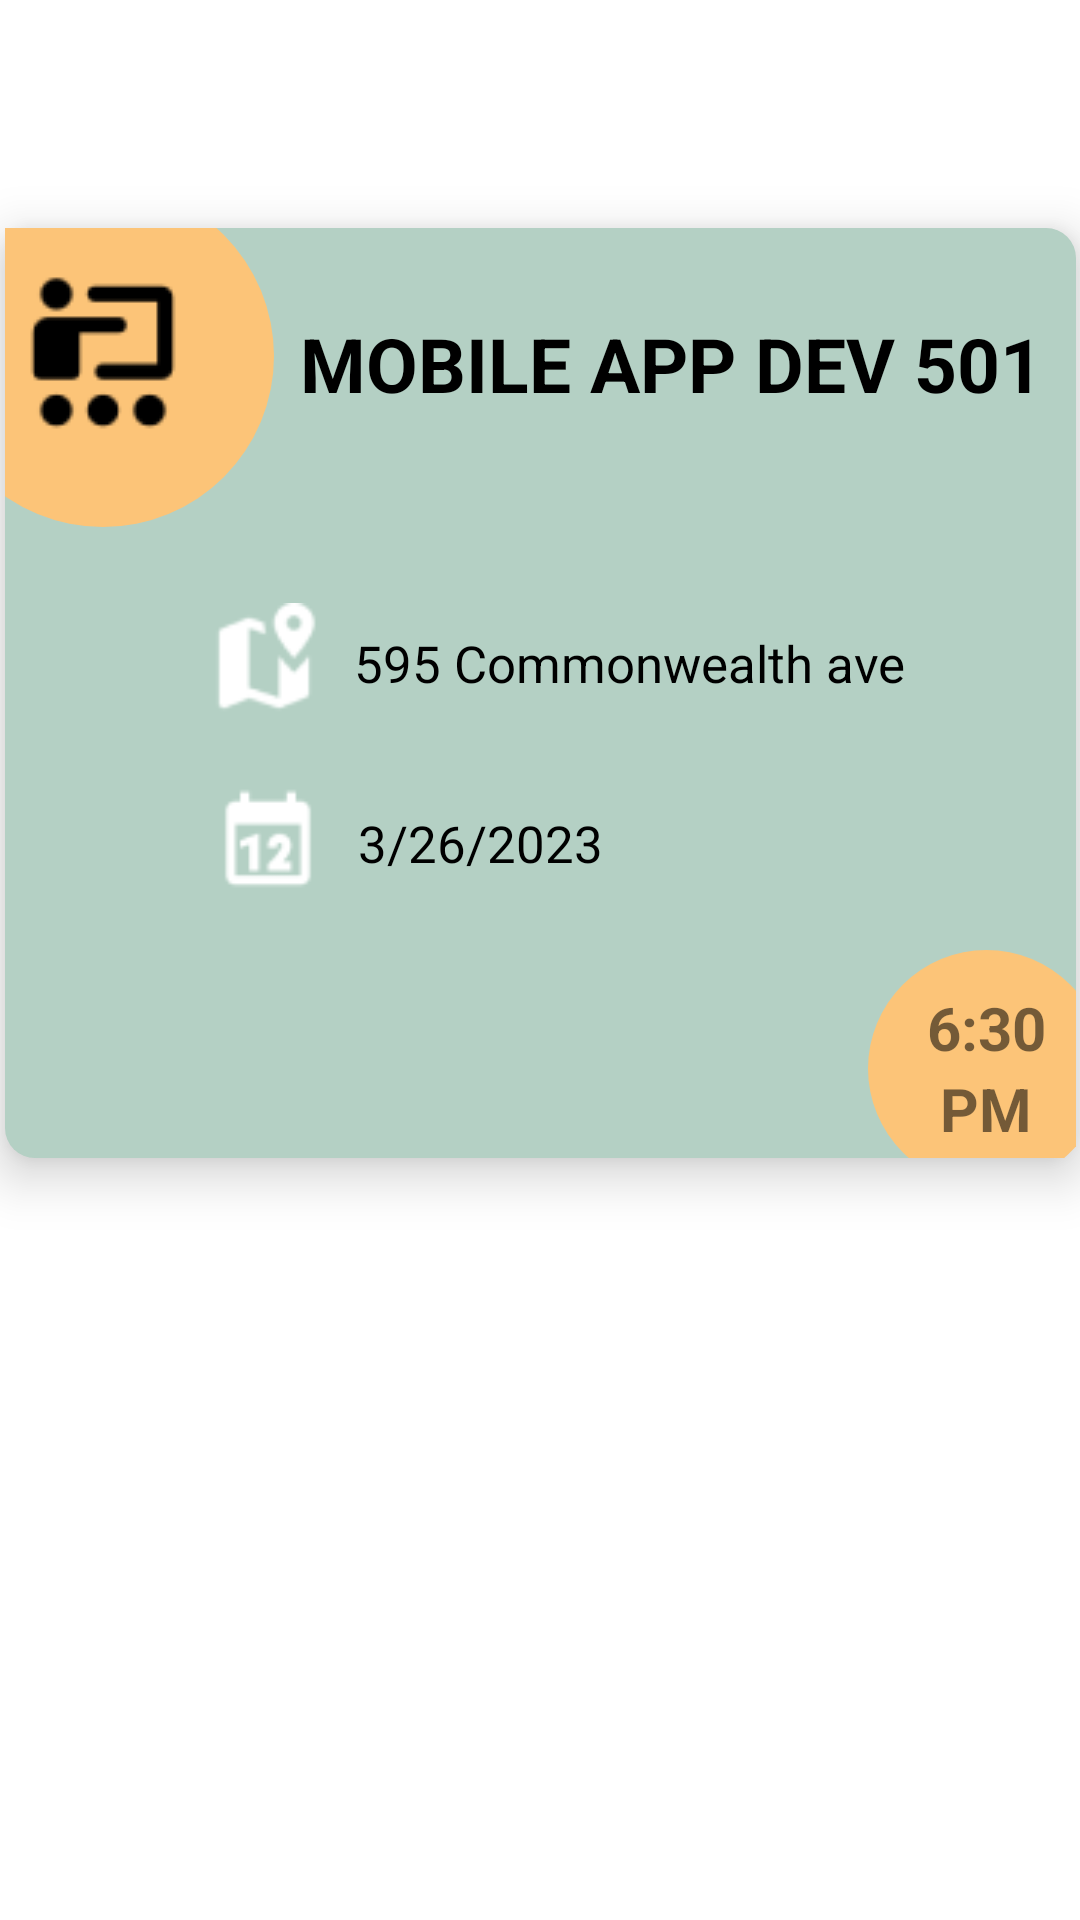

Named icons in this screenshot (1080w x 1920h) and their centers, (x,y):
calendar: (268,838)
lecture: (103,352)
map marker: (267,655)
